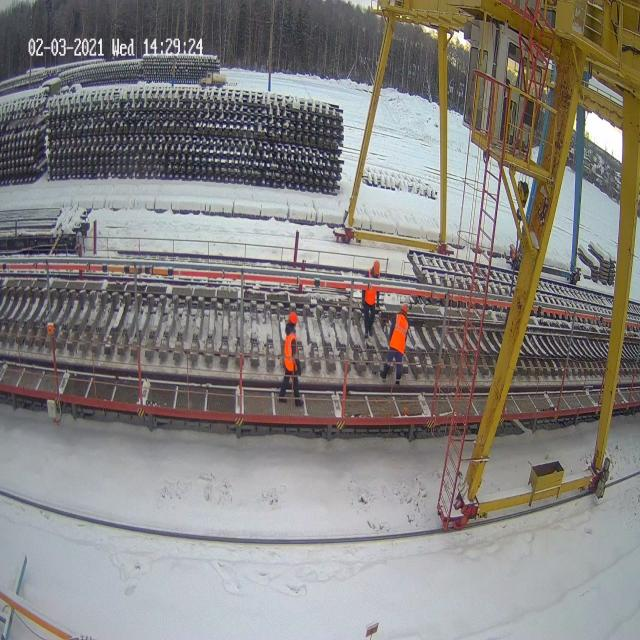Helmet: (289, 311, 298, 324), (373, 260, 380, 275), (400, 304, 408, 313)
Person: (278, 311, 304, 407), (381, 302, 409, 384), (361, 260, 380, 338)
